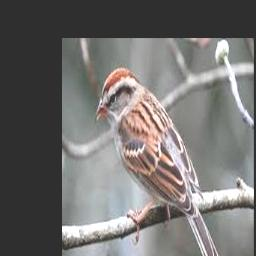Sparrow: (94, 67, 225, 256)
